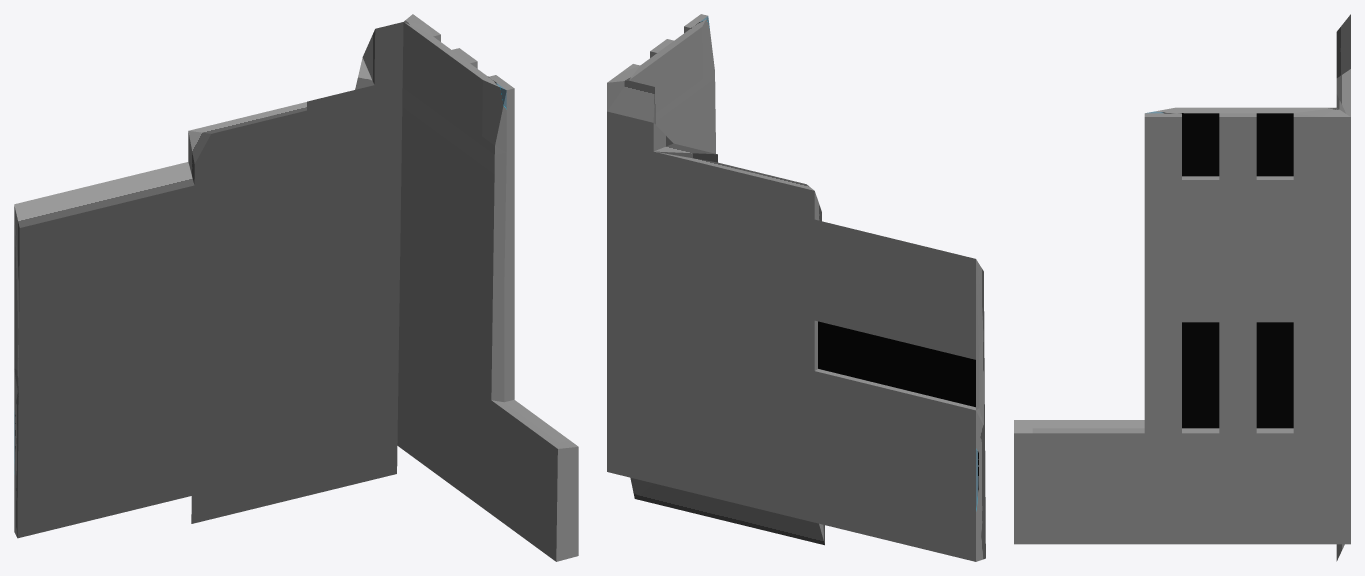
File: TargetDebris_4.fbx
3 views of the same model, side by side, from view 1: azimuth 30°, elevation 25°; view 2: azimuth 150°, elevation 25°; view 3: azimuth 270°, elevation 25° (orthographic). The views are drawn at different scales.
Visible parts, largest first — view 1: Cube; view 2: Cube; view 3: Cube.
Boxes of the visible parts, x1,y1,x2,y2 form: Cube: (14, 14, 578, 561); Cube: (607, 14, 985, 561); Cube: (1014, 14, 1350, 561).
Bounding box in the file's own units: 286 × 306 × 204.
